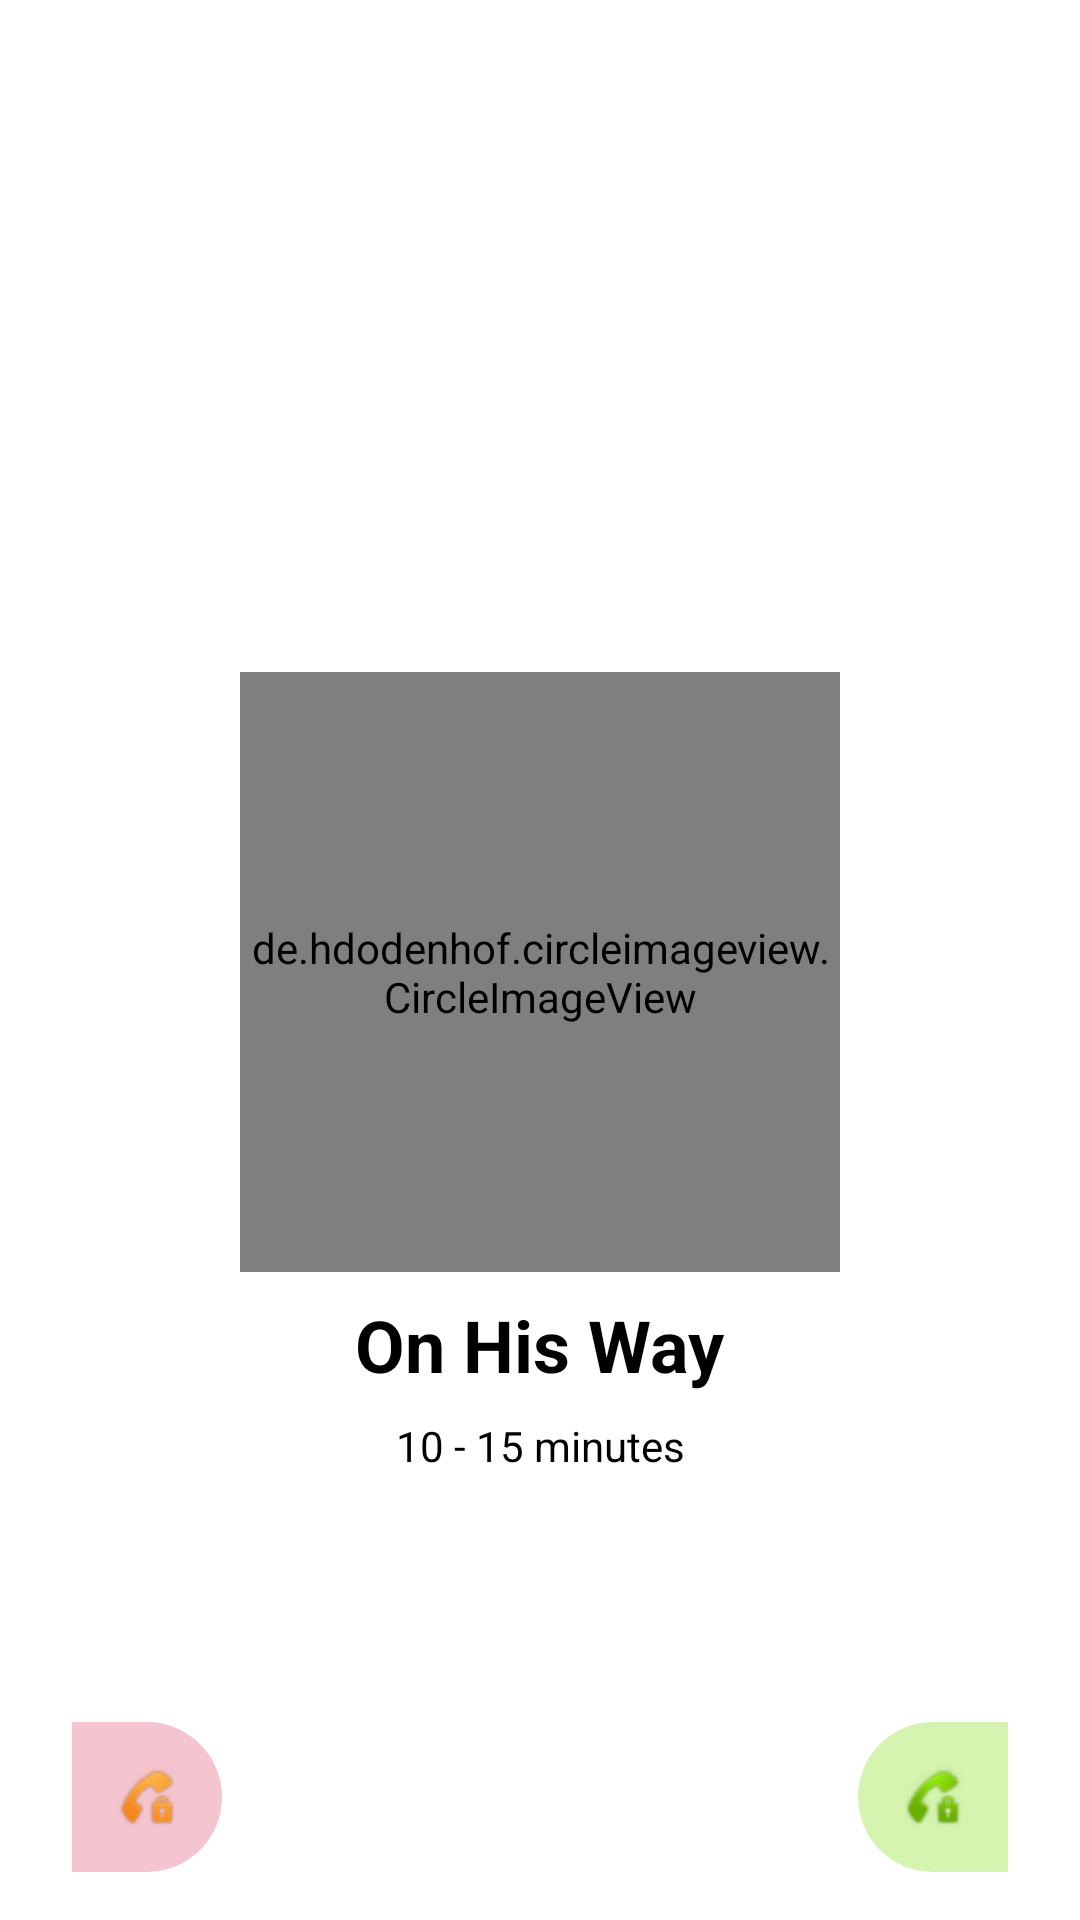

Named icons in this screenshot (1080px x 1920px) and their bounding boxes, (x1, y1, x2, y2):
phone call: (907, 1769, 959, 1824)
